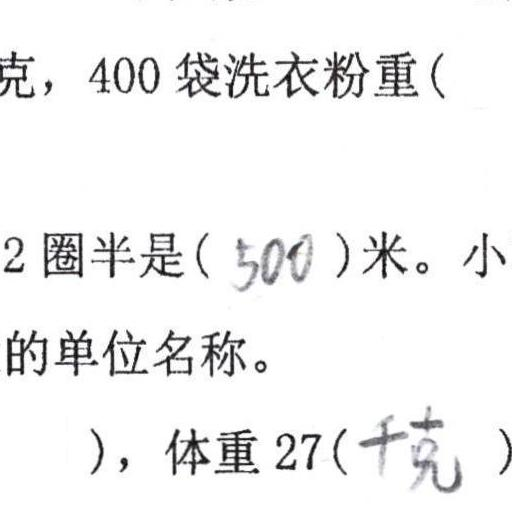ans: (353, 400, 463, 495), (227, 226, 314, 292)
